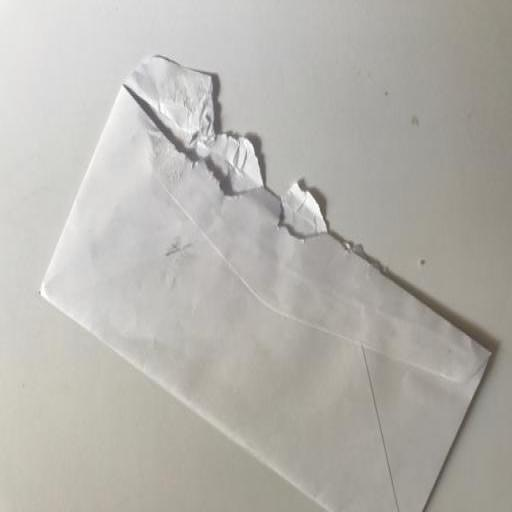waste: (35, 46, 498, 512)
